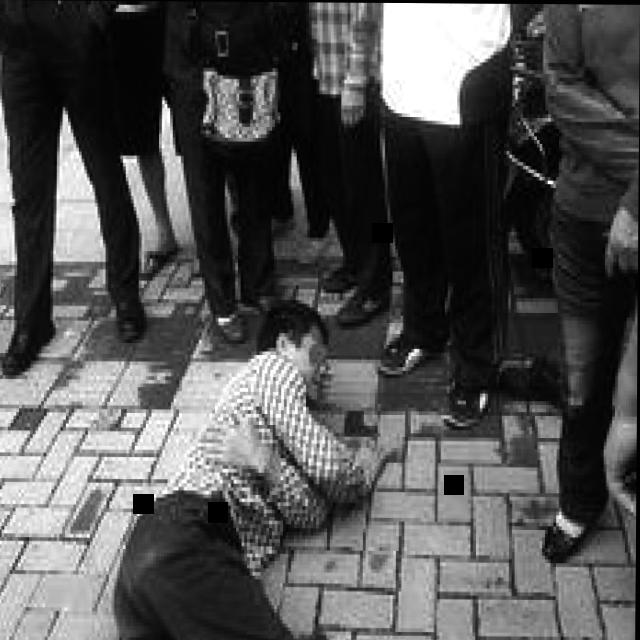Fall-Detected: (107, 251, 423, 640)
